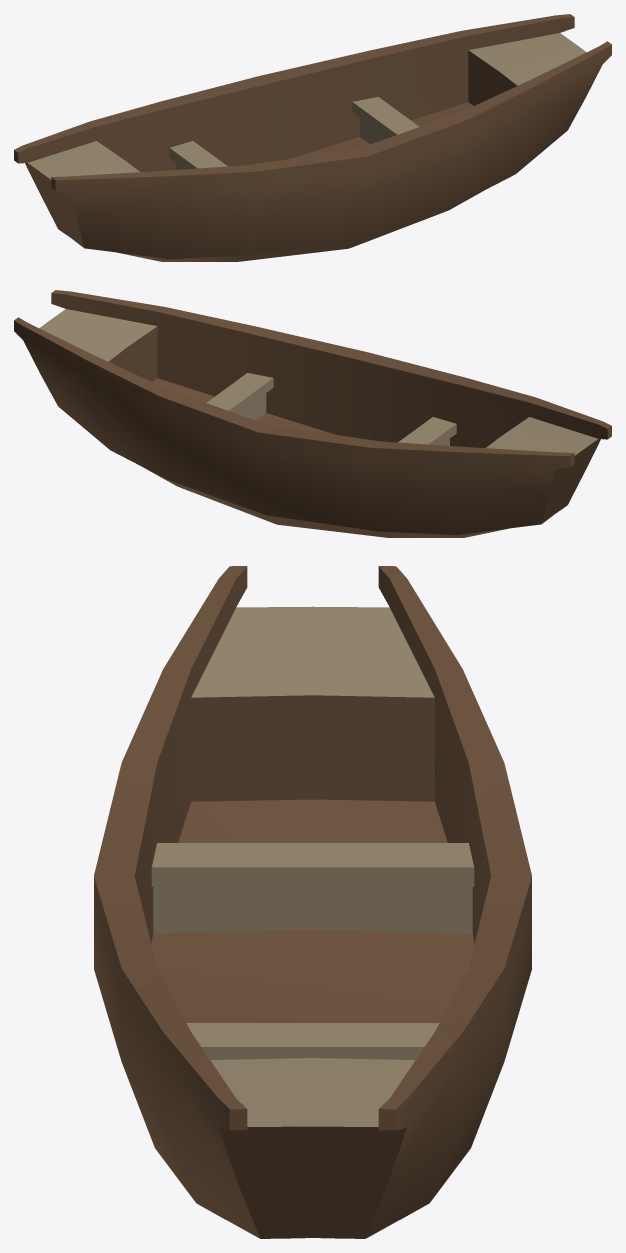
Rendered from Boat.fbx.
The picture shows the model from 3 angles, top to bottom: view 1: azimuth 30°, elevation 25°; view 2: azimuth 150°, elevation 25°; view 3: azimuth 270°, elevation 25°; orthographic projection. The views are drawn at different scales.
Visible parts, largest first — view 1: boat.002; view 2: boat.002; view 3: boat.002.
Boxes of the visible parts, x1=… form: boat.002: x1=14, y1=14, x2=611, y2=261; boat.002: x1=14, y1=290, x2=611, y2=537; boat.002: x1=94, y1=566, x2=531, y2=1238.
Size of the model in its own units: 317 by 70.24 by 108.
